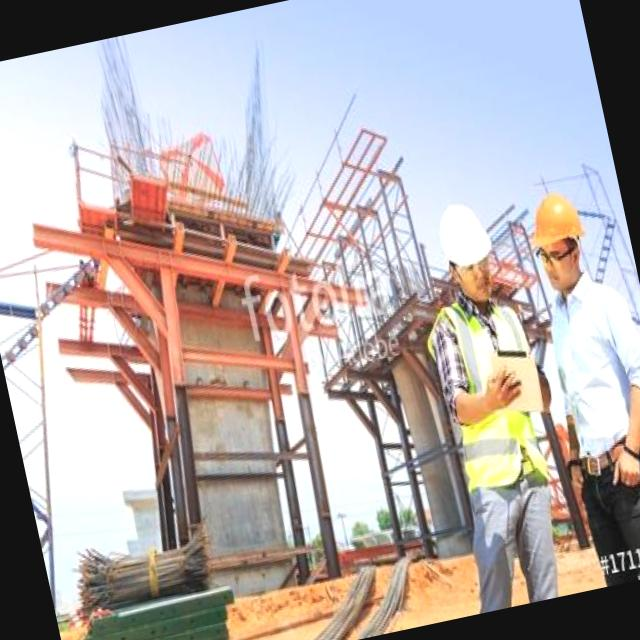helmet: (434, 201, 498, 274), (526, 193, 588, 248)
no-vest: (545, 285, 640, 479)
vest: (436, 299, 554, 505)
